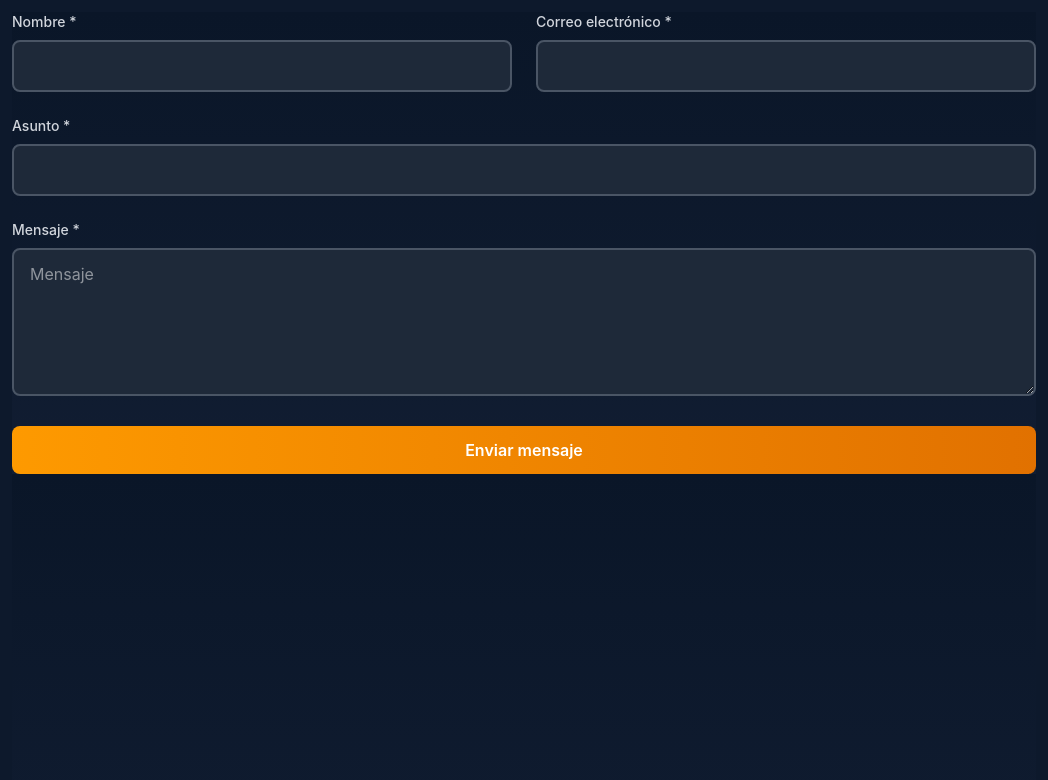
Scenario: ContactForm › shows email validation error for invalid email
Type "invalid-email" into the field labelled "Correo electrónico *" at (786, 66), box [536,40,1036,92]
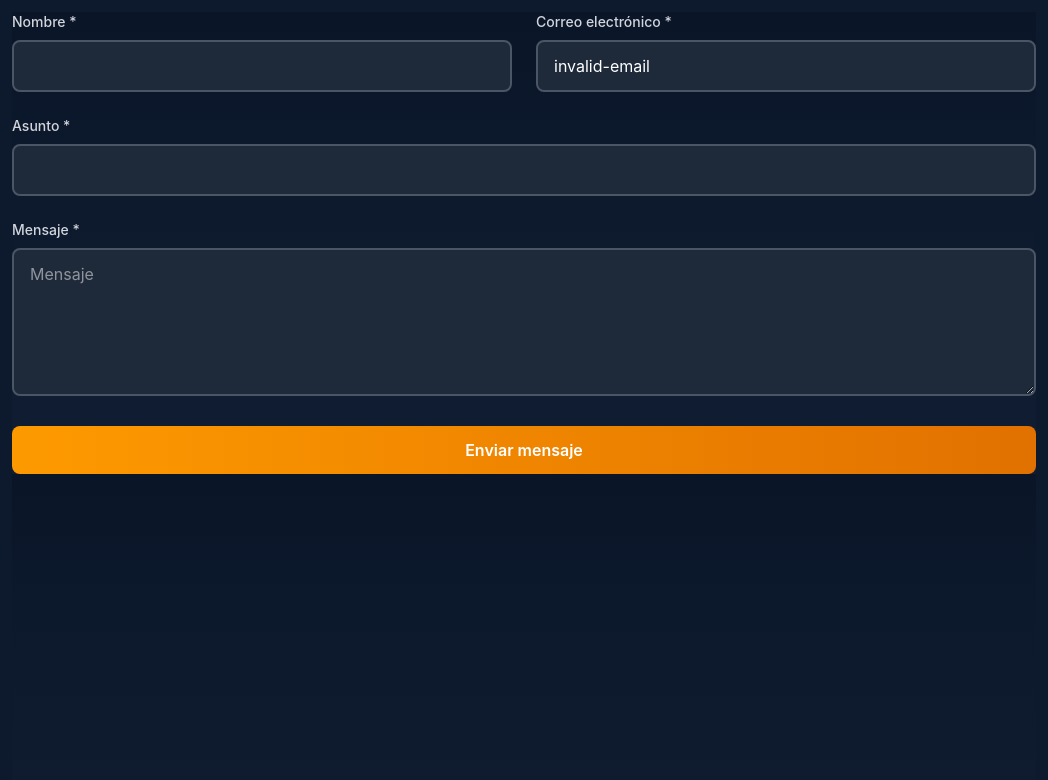
Click the button "Enviar mensaje" at (524, 450), box [12,426,1036,474]
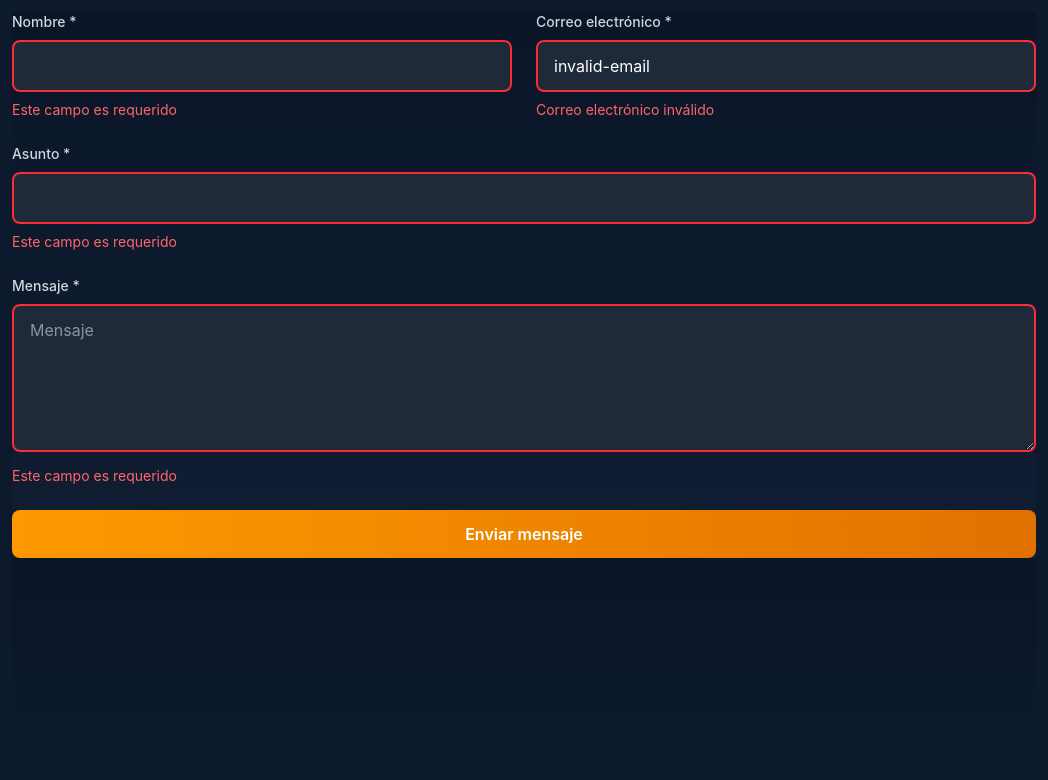
Expected: the text "Correo electrónico inválido" is shown, [536,101,714,118]
